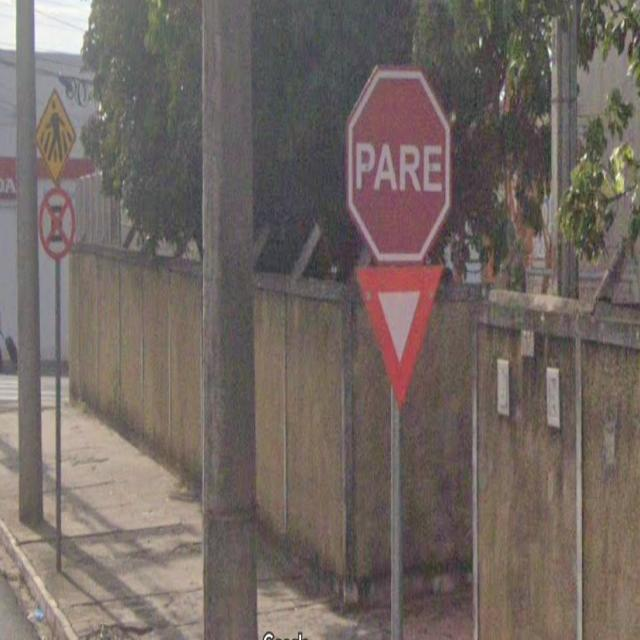no parking: (31, 185, 85, 268)
pedestrian crossing: (27, 85, 83, 180)
stop: (335, 45, 456, 261)
